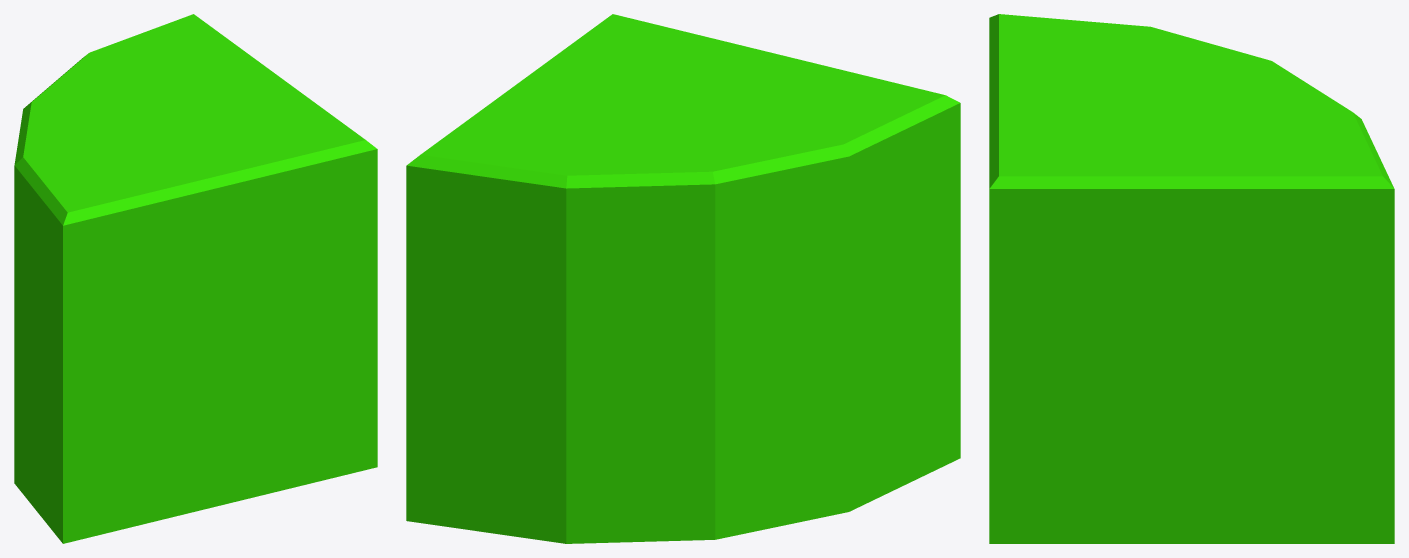
The model's file is round_2x2_02.fbx.
3 renders of one model, left to right at view 1: azimuth 30°, elevation 25°; view 2: azimuth 150°, elevation 25°; view 3: azimuth 270°, elevation 25°, orthographic. The views are drawn at different scales.
Parts seen in each view (by area): view 1: round_2x2_02; view 2: round_2x2_02; view 3: round_2x2_02.
Boxes of the visible parts, <box> form: round_2x2_02: <box>14,14,377,543</box>; round_2x2_02: <box>406,14,960,543</box>; round_2x2_02: <box>989,14,1394,543</box>.
Size of the model in its own units: 212 by 210 by 212.
